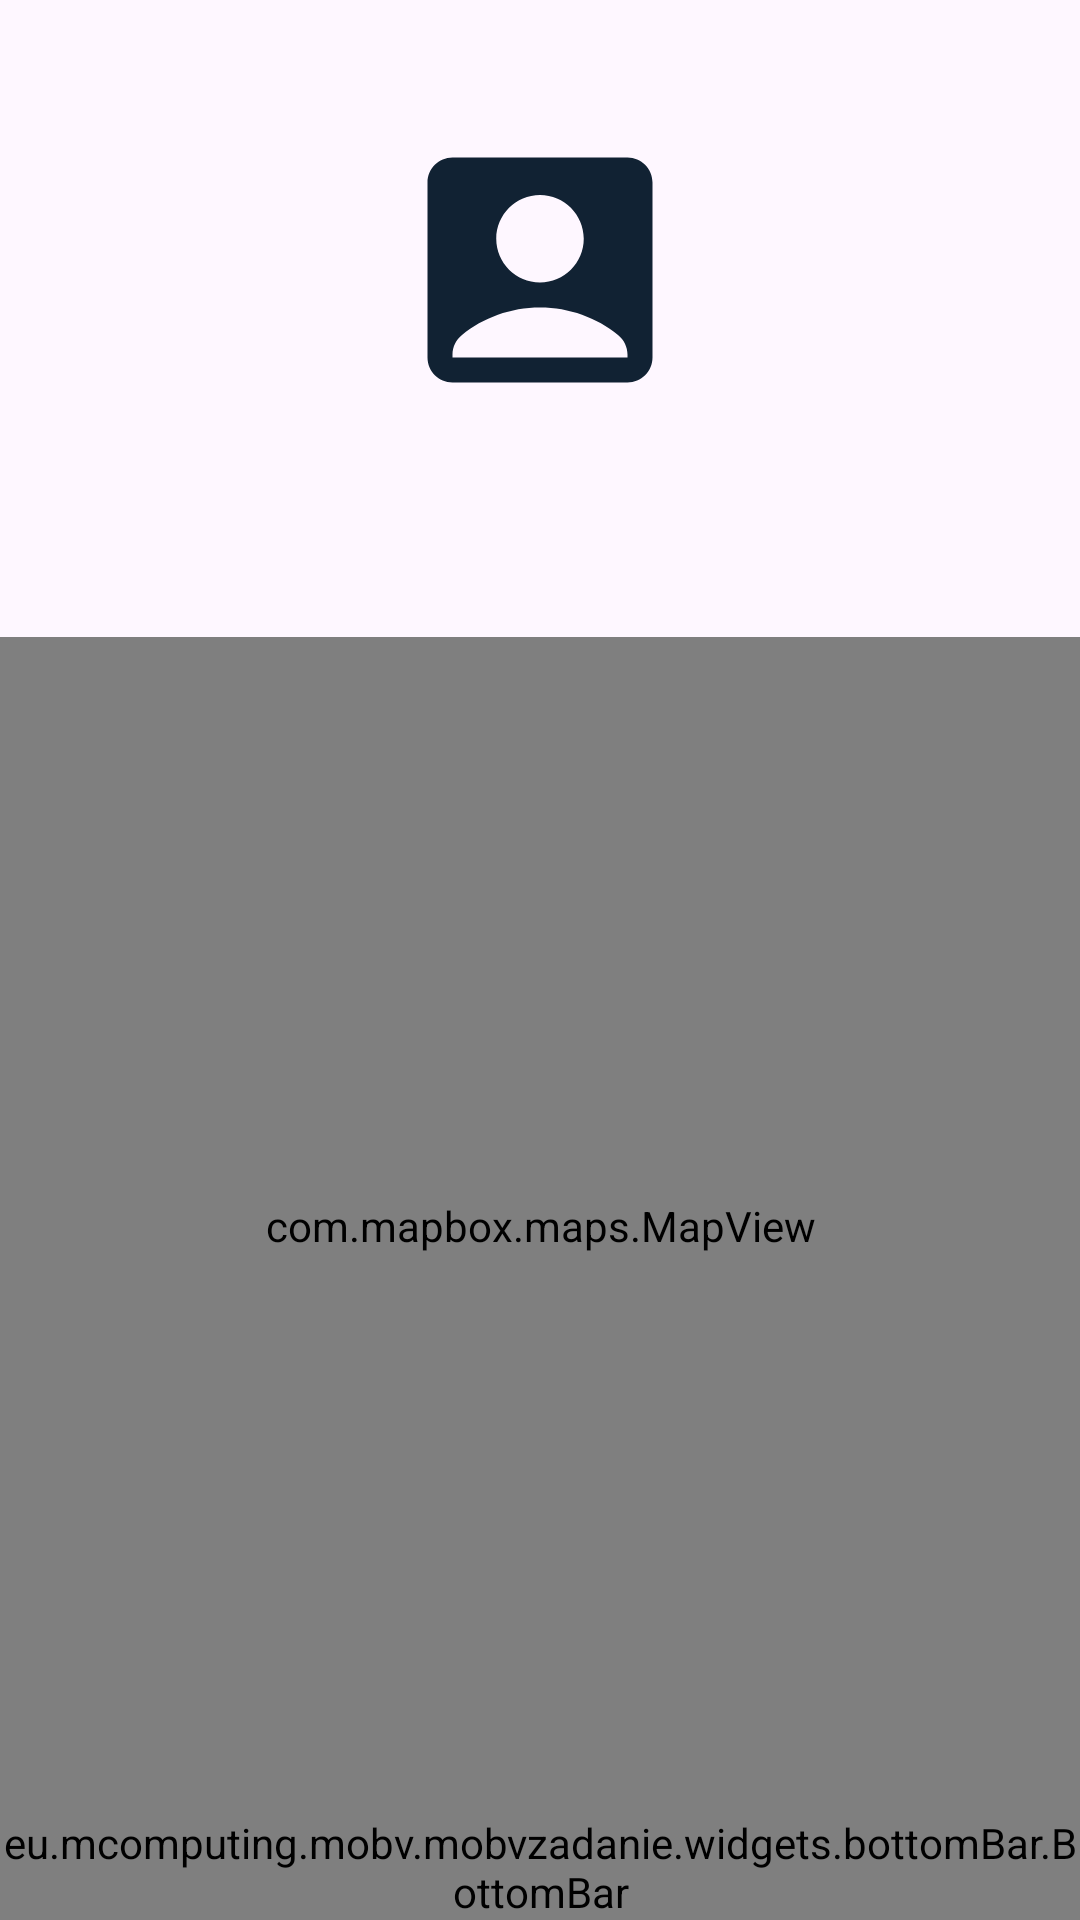

Icon click points for this 1080px×1920px phone screenshot, format [x,y]:
User's picture: [540,270]
